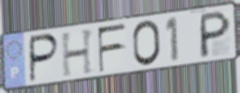1: (164, 16, 180, 63)
F: (96, 22, 128, 75)
H: (60, 27, 96, 79)
O: (132, 19, 163, 68)
P: (198, 9, 232, 60), (28, 32, 61, 84)
